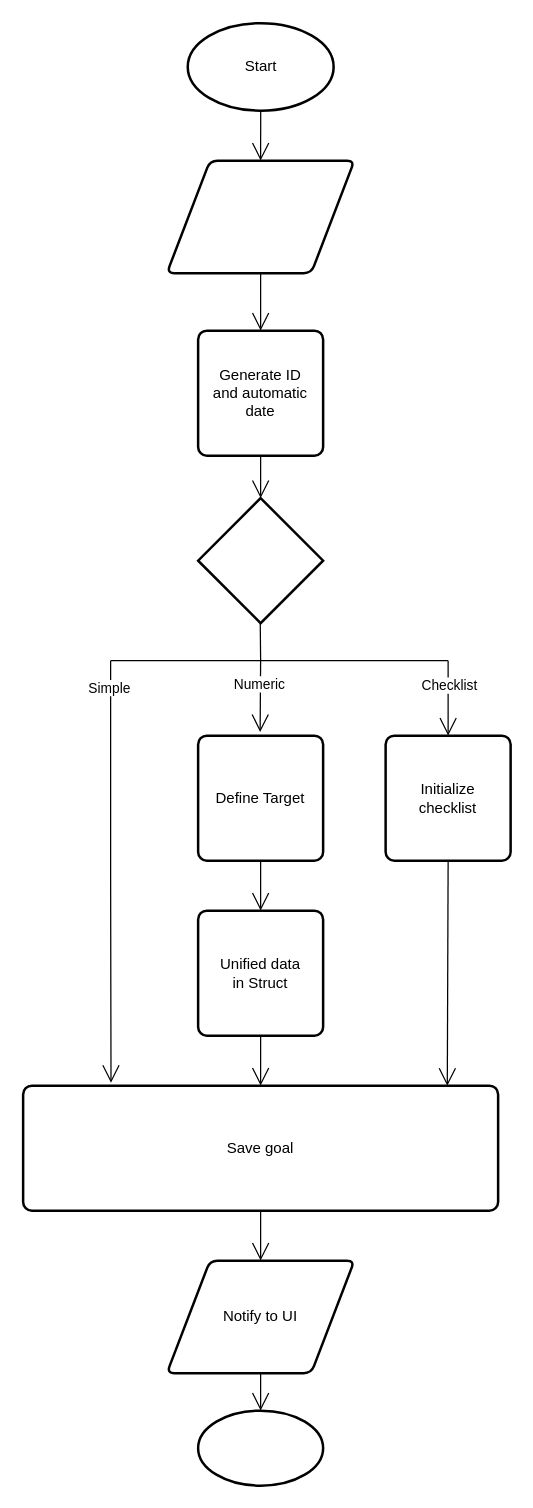
Some shapes in this 533 by 1508 pixel diagram are drawn without their labels. The centre of each missing label's shape, as x and y in pixels:
"End" belongs at point 260,1447.
"name, description goal type" belongs at point 260,216.
"¿Goal_type?" belongs at point 260,560.
